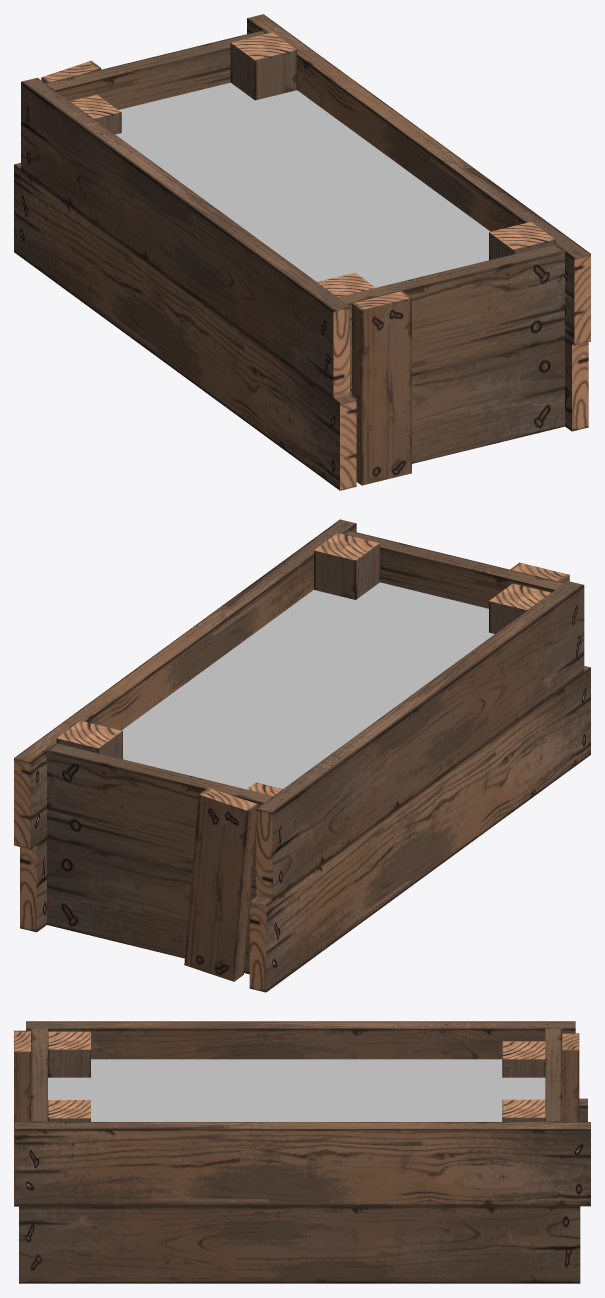
File: raisedBed11.fbx
3 renders of one model, top to bottom at view 1: azimuth 30°, elevation 25°; view 2: azimuth 150°, elevation 25°; view 3: azimuth 270°, elevation 25°, orthographic. The views are drawn at different scales.
Parts seen in each view (by area): view 1: raisedBed11; view 2: raisedBed11; view 3: raisedBed11.
Part boxes in pixels (box(x1,y1,x2,y2)): raisedBed11: box(14, 14, 590, 490); raisedBed11: box(14, 519, 590, 992); raisedBed11: box(14, 1021, 590, 1283).
Size of the model in its own units: 75 by 51.94 by 169.
